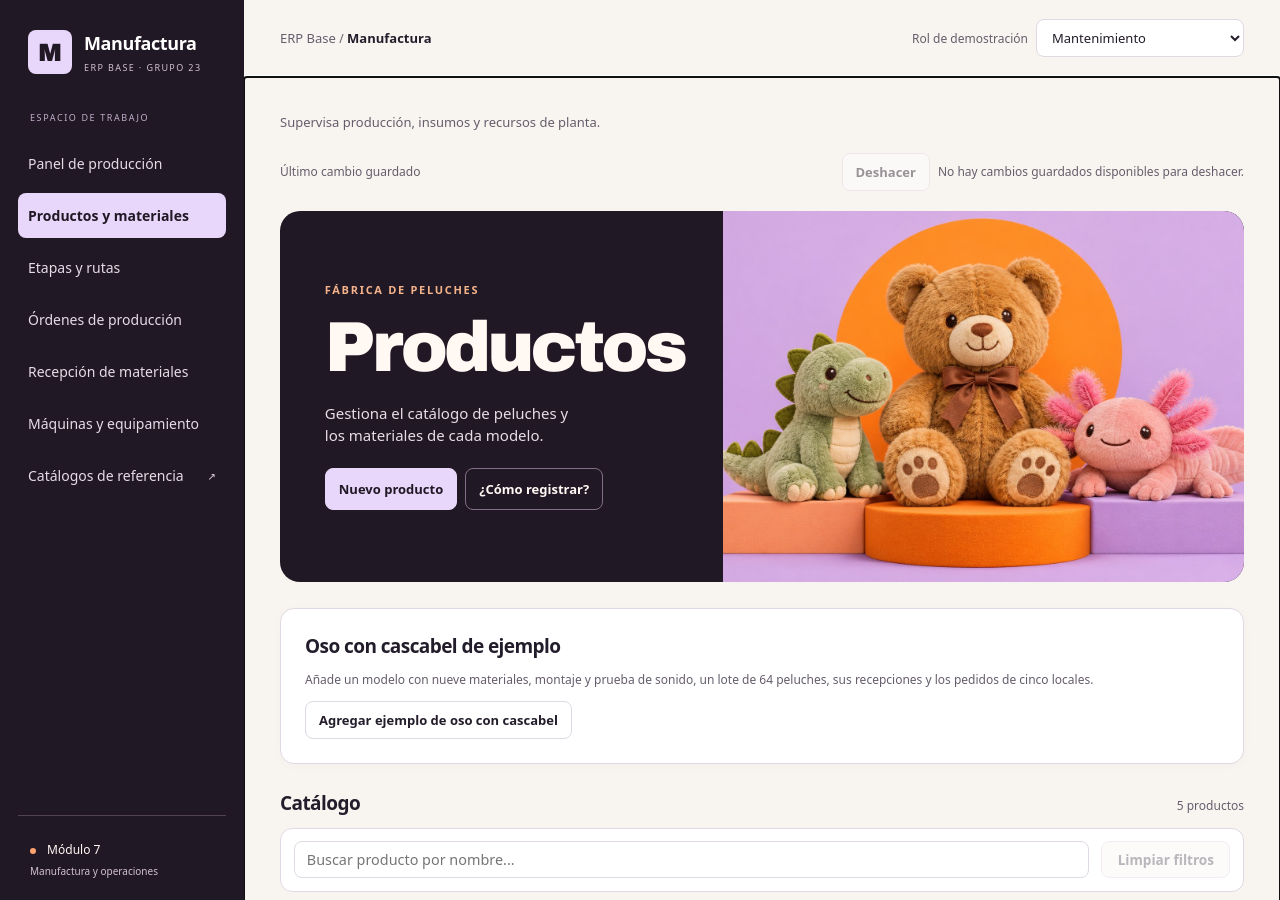
Scenario: Mantenimiento administra sus recursos y conserva el perfil al reabrir
Select "Mantenimiento" in the dropdown with id "rol-manufactura": (1140, 38) x1=1036 y1=19 x2=1244 y2=57
(page scrolled)
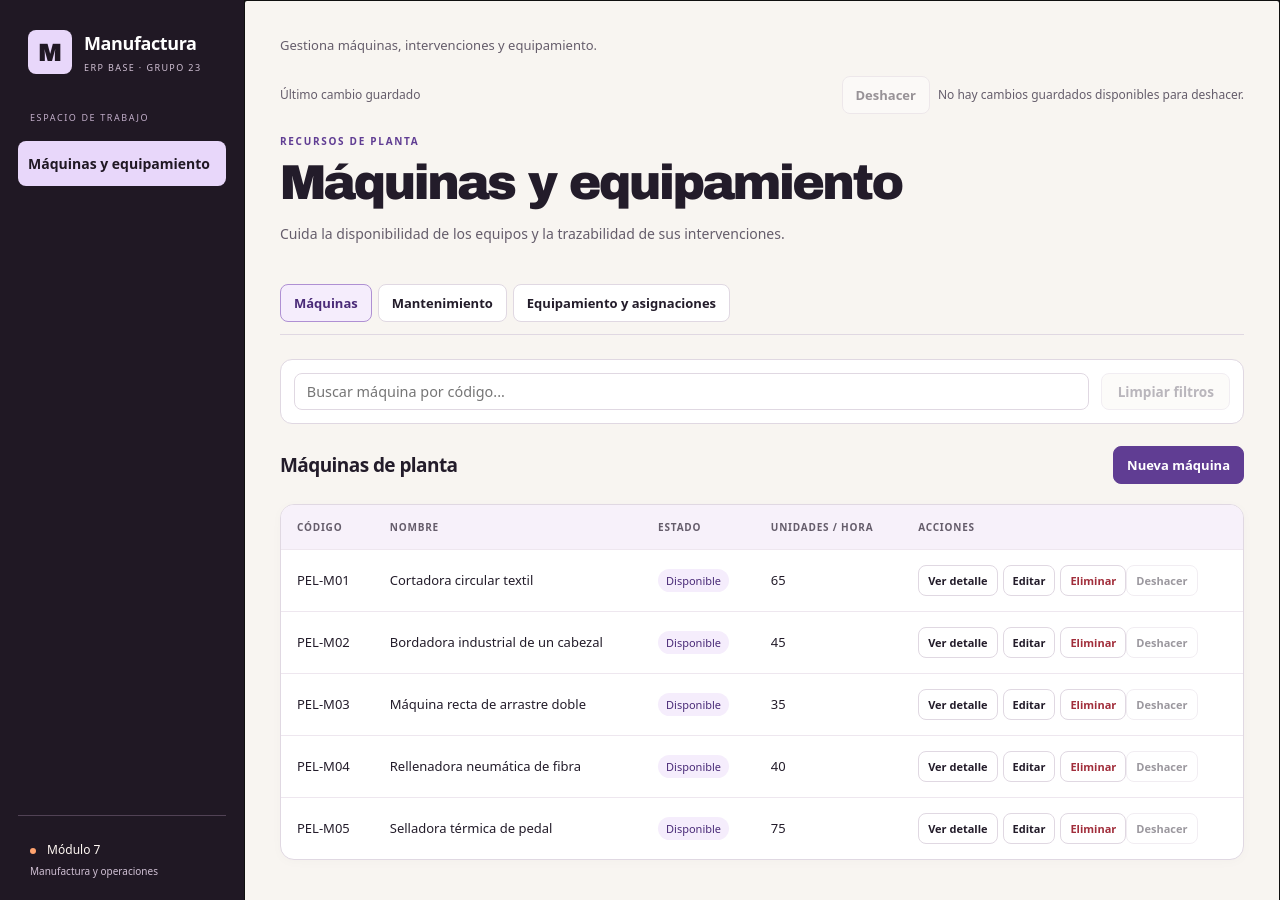
Expected: the heading "Máquinas y equipamiento" is shown, x1=280 y1=156 x2=901 y2=209
